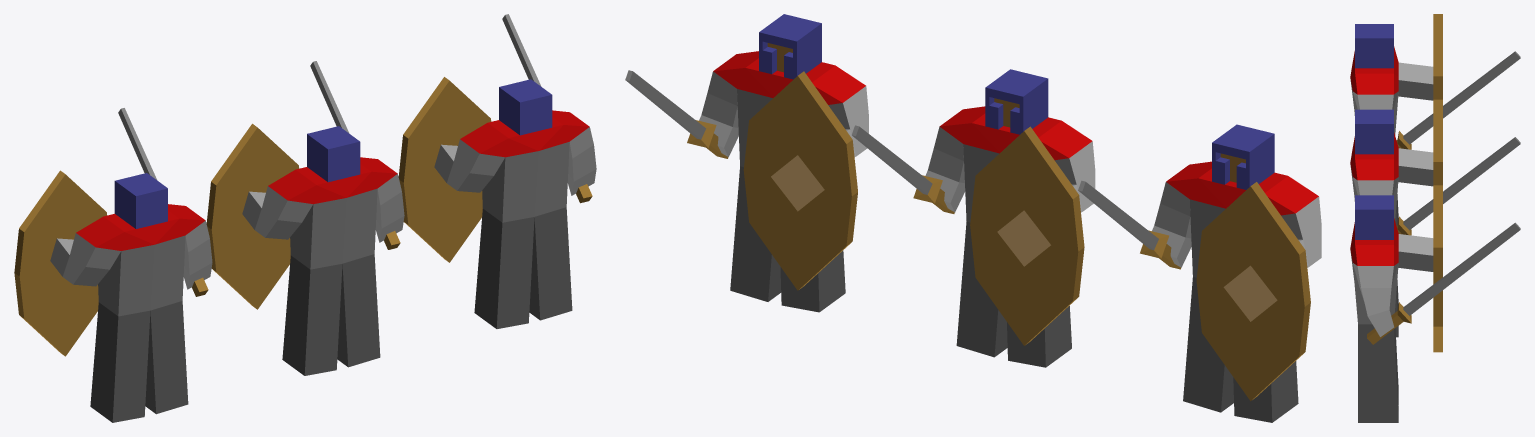
File: legion.glb
The picture shows the model from 3 angles, left to right: view 1: azimuth 30°, elevation 25°; view 2: azimuth 150°, elevation 25°; view 3: azimuth 270°, elevation 25°; orthographic projection. The views are drawn at different scales.
Parts seen in each view (by area): view 1: Cube.002, Cube.003, Cube.001; view 2: Cube.002, Cube.001, Cube.003; view 3: Cube.003, Cube.001, Cube.002.
Boxes of the visible parts, x1,y1,x2,y2 form: Cube.002: [14, 108, 212, 422]; Cube.003: [398, 14, 596, 328]; Cube.001: [206, 61, 404, 375]; Cube.002: [1078, 124, 1321, 422]; Cube.001: [852, 69, 1095, 367]; Cube.003: [625, 14, 868, 312]; Cube.003: [1350, 185, 1520, 422]; Cube.001: [1350, 99, 1520, 337]; Cube.002: [1350, 14, 1520, 225].
Bounding box in the file's own units: 0.7105 × 0.2865 × 0.2101.
